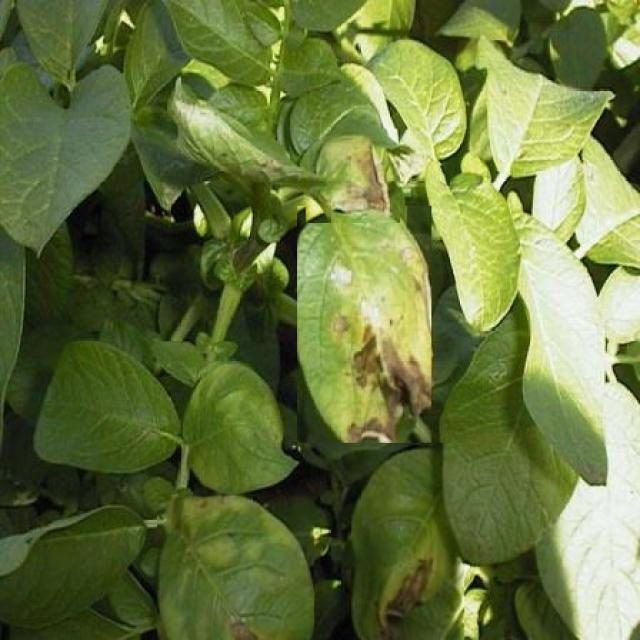Late Blight: (297, 206, 432, 443), (342, 443, 464, 640), (157, 494, 314, 640), (306, 129, 401, 222)
